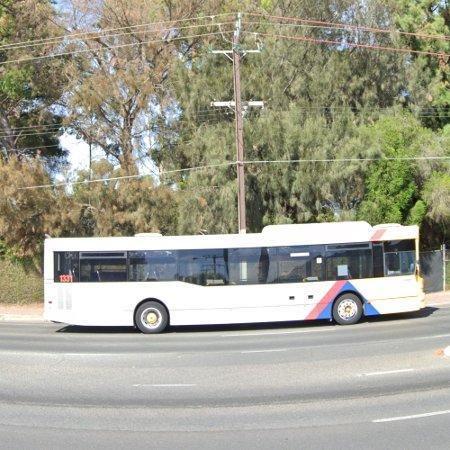buses: (43, 222, 426, 333)
